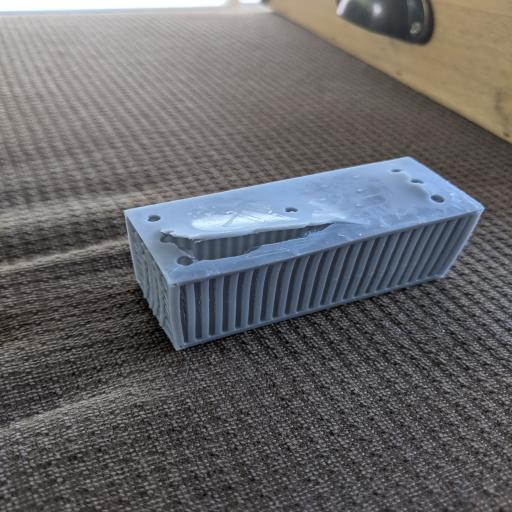cracks: (118, 221, 361, 273)
